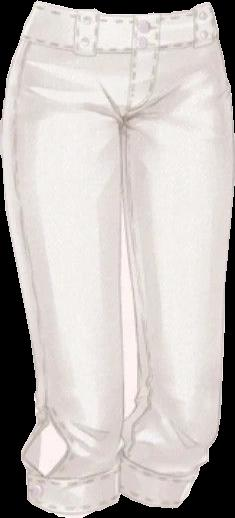Hemline: (26, 495, 121, 517), (117, 489, 181, 512)
Pantleg: (0, 1, 135, 516), (118, 2, 234, 507)
Waistline: (18, 33, 221, 54), (34, 0, 210, 19)
